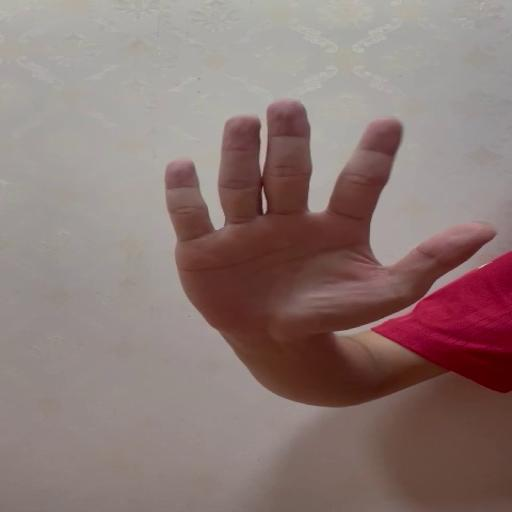open_palm: (164, 95, 496, 338)
